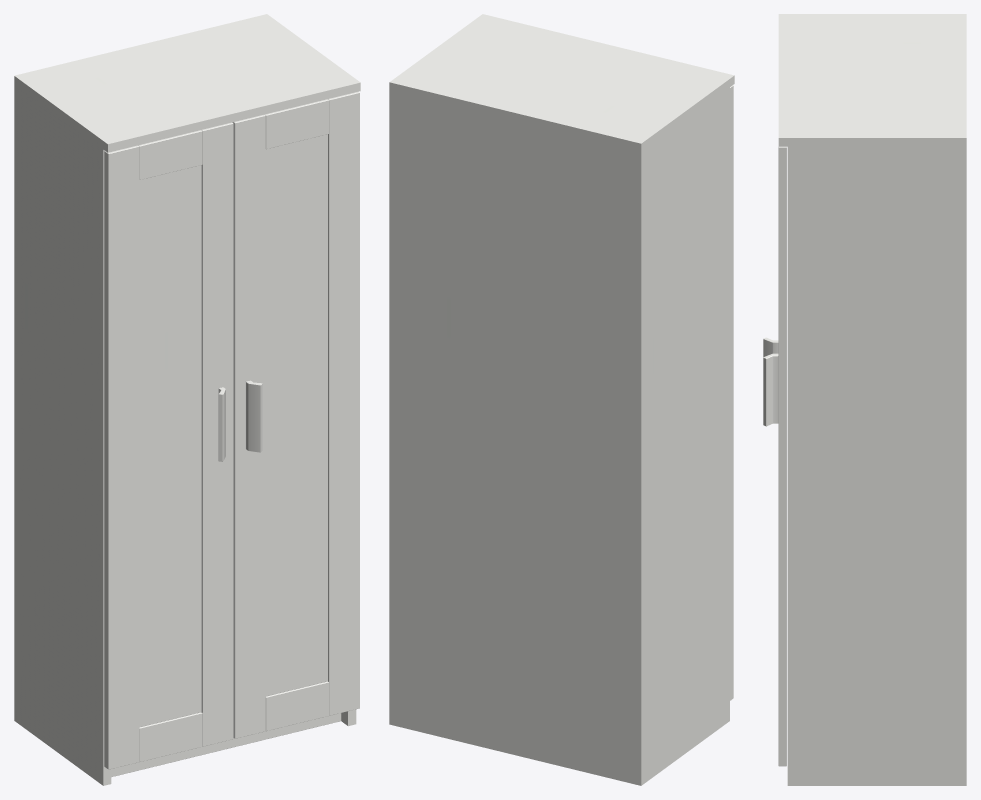
The model's file is brimnes_szafa_2_drzwi_40400478.glb.
3 views of the same model, side by side, from view 1: azimuth 30°, elevation 25°; view 2: azimuth 150°, elevation 25°; view 3: azimuth 270°, elevation 25° (orthographic).
Parts seen in each view (by area): view 1: brimnes_szafa_2_drzwi_40400478; view 2: brimnes_szafa_2_drzwi_40400478; view 3: brimnes_szafa_2_drzwi_40400478.
Part boxes in pixels (x1,y1,x2,y2): brimnes_szafa_2_drzwi_40400478: (14, 14, 360, 785); brimnes_szafa_2_drzwi_40400478: (389, 14, 734, 785); brimnes_szafa_2_drzwi_40400478: (763, 14, 966, 785).
Size of the model in its own units: 0.7817 by 1.91 by 0.5426.
Materials: 1 (1 with a texture image).
